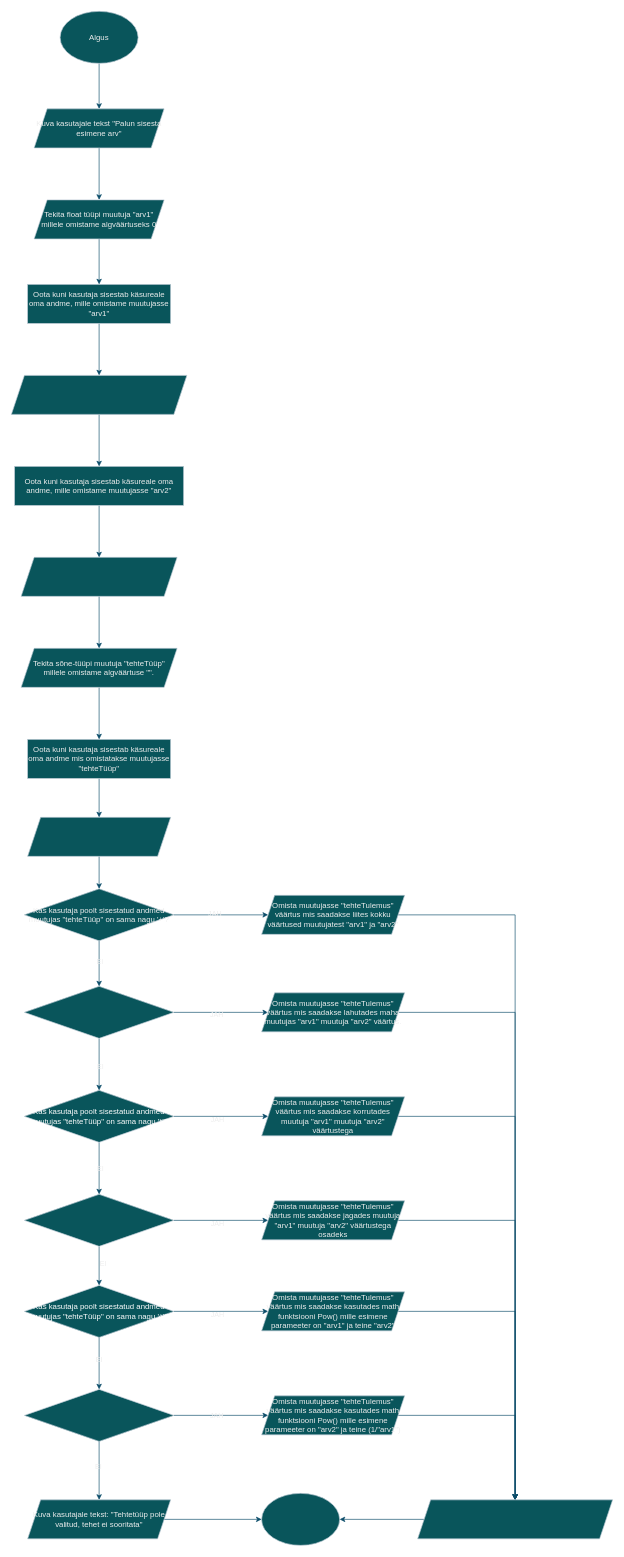
Image size: 624x1557. Some labels were removed from this diagram. Each missing label, with the box of its shape:
Kas kasutaja poolt sisestatud andmed muutujas "tehteTüüp" on sama nagu '-'?: (24, 986, 174, 1038)
Kas kasutaja poolt sisestatud andmed muutujas "tehteTüüp" on sama nagu '/'?: (24, 1194, 174, 1246)
Kas kasutaja poolt sisestatud andmed muutujas "tehteTüüp" on sama nagu 'v'?: (24, 1389, 174, 1441)
Kuva kasutajale tekst "Mis tüüpi tehet soovite teha? (+ - * / ^ v)": (20, 557, 177, 596)
Kuva kasutajale tekst "Palun sisesta teine arv": (11, 375, 187, 414)
Kuva kasutajale tekst "Tehte tulemus on: arv1 tehteTüüp arv2 = tehteTulemus": (417, 1499, 613, 1539)
Lõpp: (261, 1493, 340, 1545)
Tekita double tüüpi muutuja "tehteTulemus" kuhu omistad algväärtuseks arvu 0: (27, 817, 171, 856)
